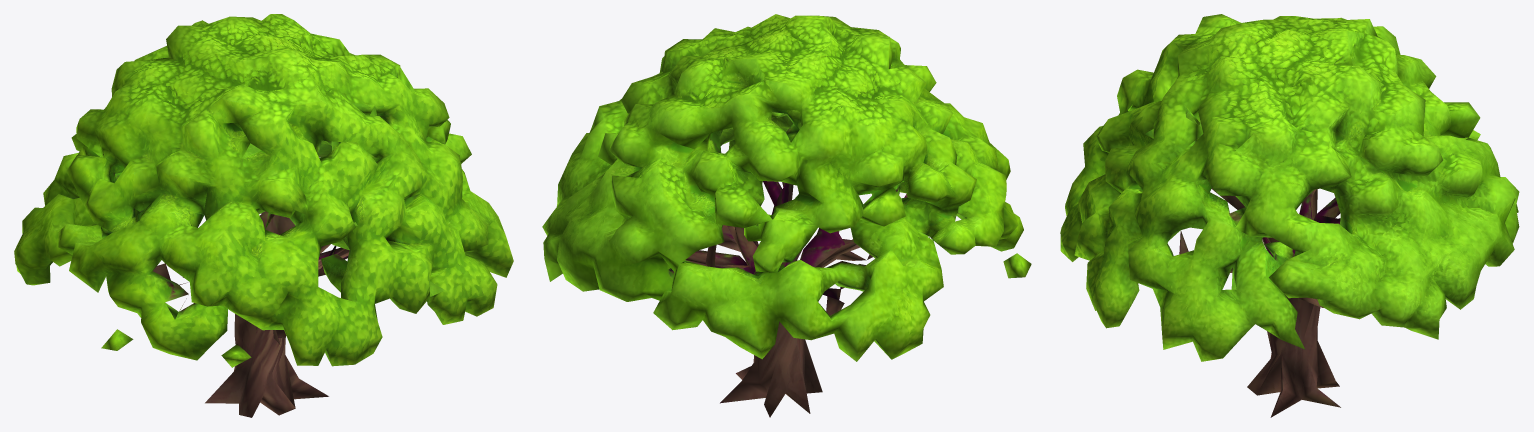
Rendered from tree_oak.glb.
3 views of the same model, side by side, from view 1: azimuth 30°, elevation 25°; view 2: azimuth 150°, elevation 25°; view 3: azimuth 270°, elevation 25° (orthographic). The views are drawn at different scales.
Parts seen in each view (by area): view 1: Mesh_0.001; view 2: Mesh_0.001; view 3: Mesh_0.001.
Part boxes in pixels (<box>): Mesh_0.001: <box>14,14,513,417</box>; Mesh_0.001: <box>542,14,1031,417</box>; Mesh_0.001: <box>1060,14,1519,417</box>.
Size of the model in its own units: 5.81 by 5 by 5.73.
Materials: 1 (1 with a texture image).
